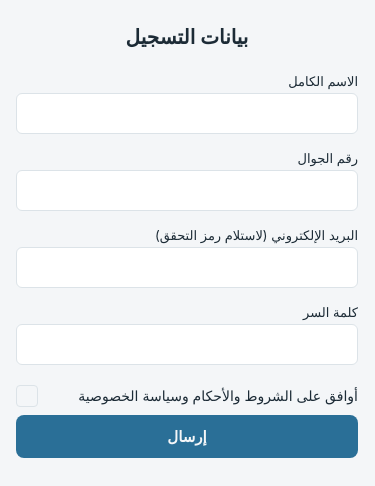
Scenario: RegisterFormScreen › blocks registration until the terms are accepted
Type "Test User" into the field with test id "fullName-input" at coordinates (187, 113), box [16,92,358,134]
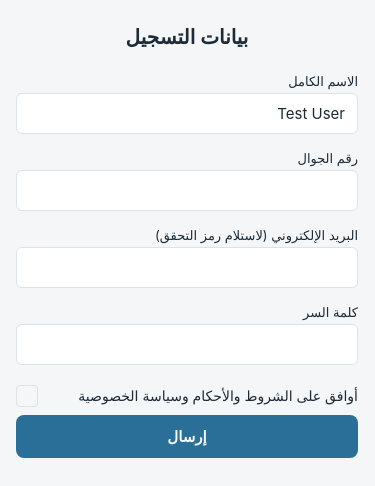
Type "+966500000001" into the field with test id "mobile-input" at coordinates (187, 190), box [16,170,358,210]
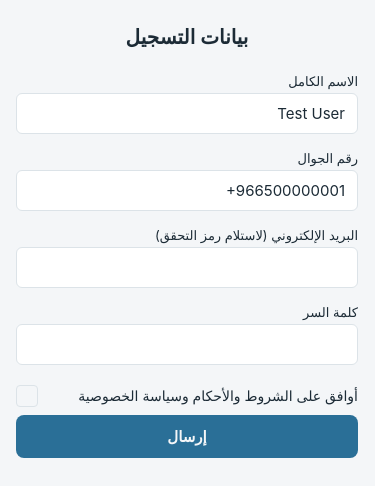
Type "password123" into the password field with test id "password-input" at coordinates (187, 344), box [16,324,358,364]
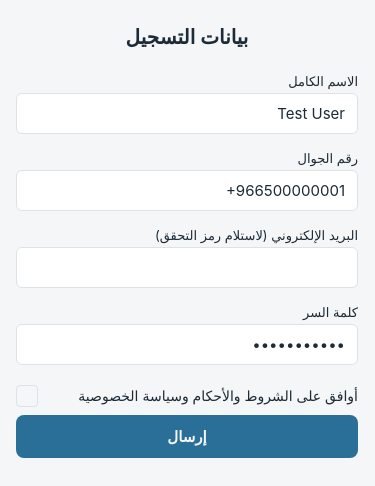
# terms NOT accepted
Click the text "إرسال" at coordinates (187, 436), box [167,426,207,446]
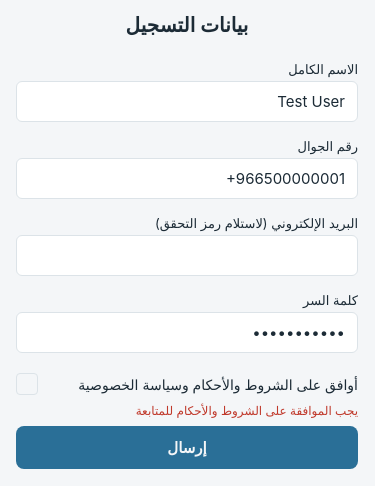
Expected: the text "يجب الموافقة على الشروط والأحكام للمتابعة" is shown, [136,403,358,418]
